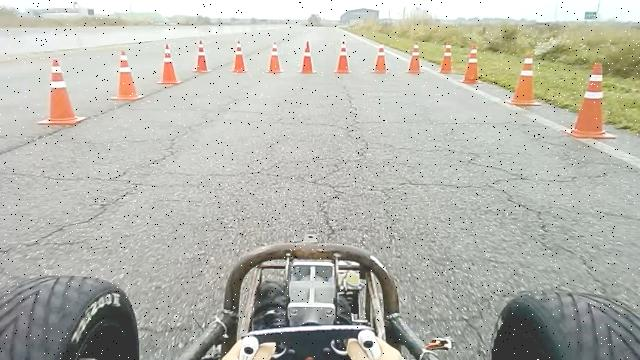red cone: (562, 61, 617, 139), (38, 57, 88, 126), (507, 52, 542, 106), (110, 50, 146, 101), (157, 43, 183, 85), (460, 43, 482, 84), (297, 40, 317, 74), (230, 40, 250, 73), (192, 39, 211, 73), (334, 39, 352, 74), (406, 41, 424, 74), (371, 43, 390, 74), (266, 41, 284, 73), (438, 41, 454, 74)
